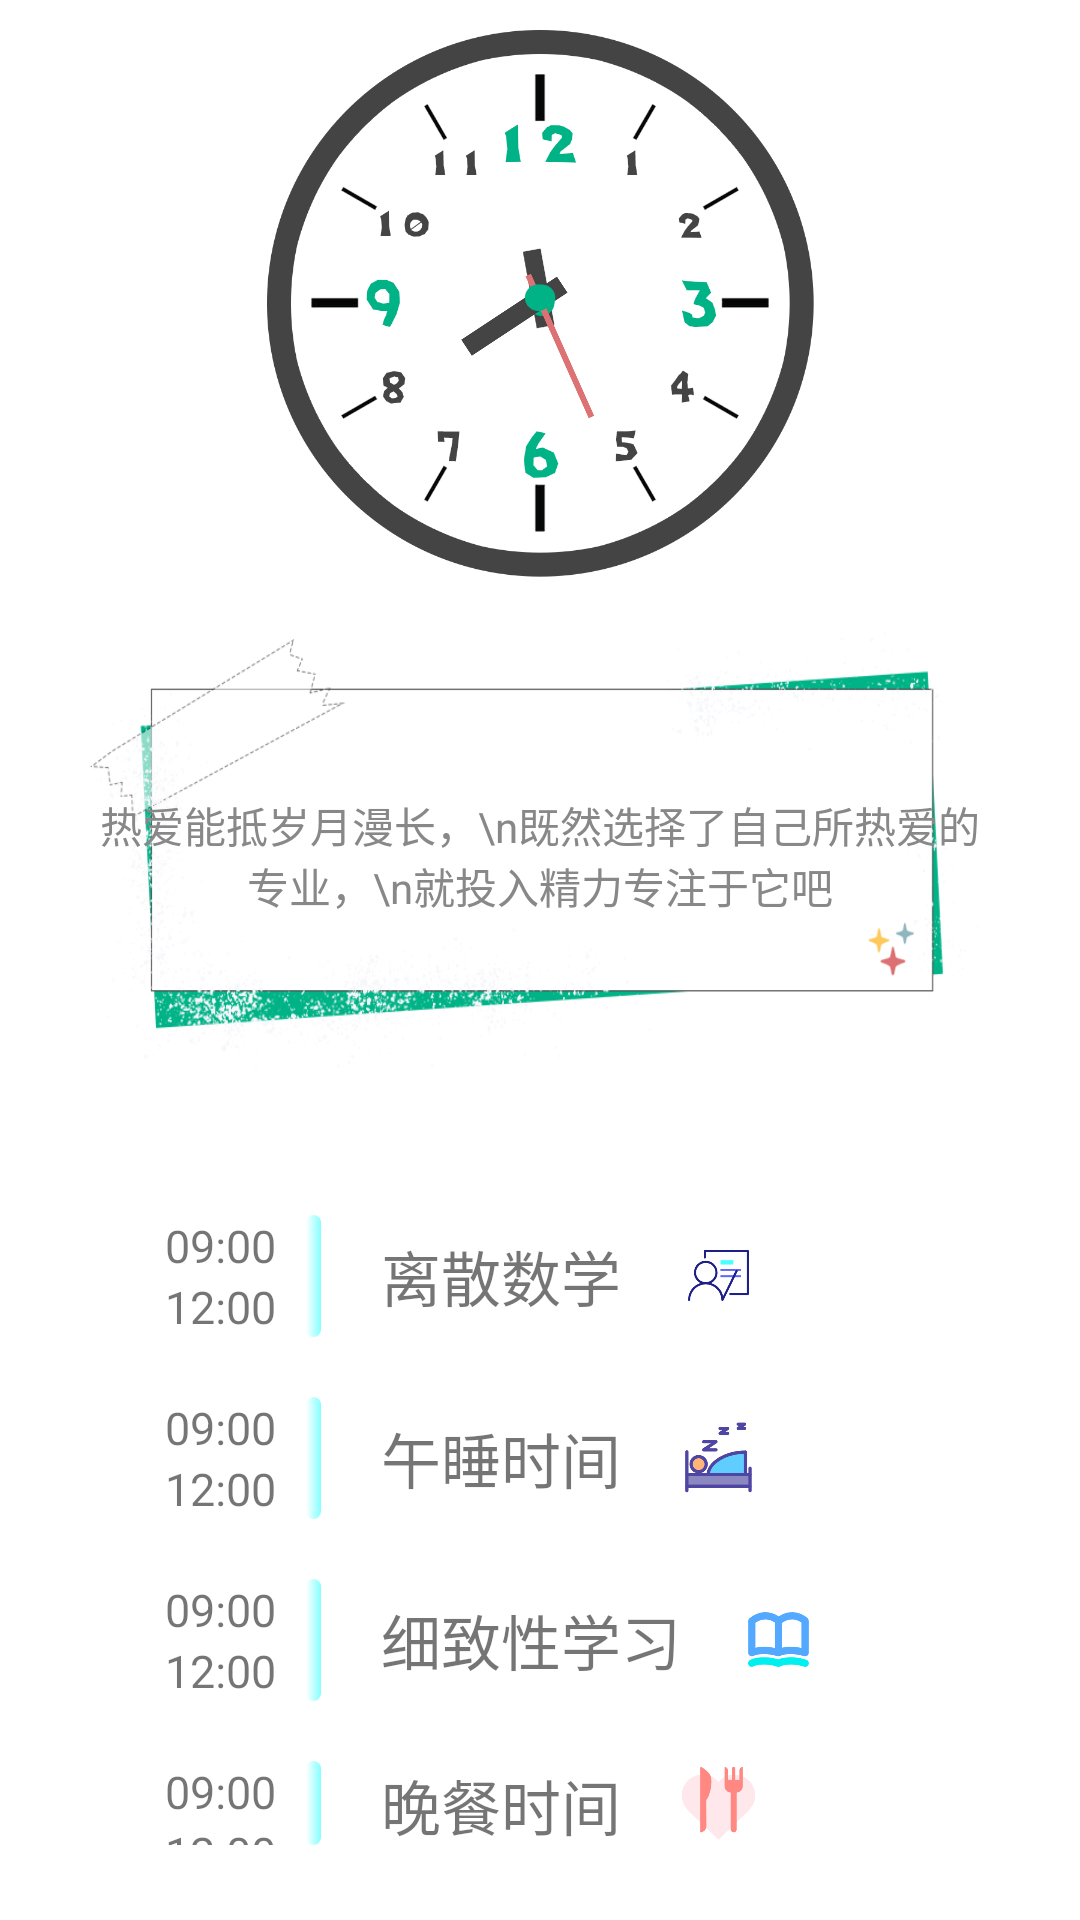

Where icons sit on this 1080w x 1920h app screen, as rect(x1, y1, x2, y2):
class time: rect(688, 1250, 749, 1301)
eating: rect(700, 1767, 743, 1833)
learning center: rect(748, 1612, 809, 1667)
sleep: rect(685, 1422, 752, 1492)
